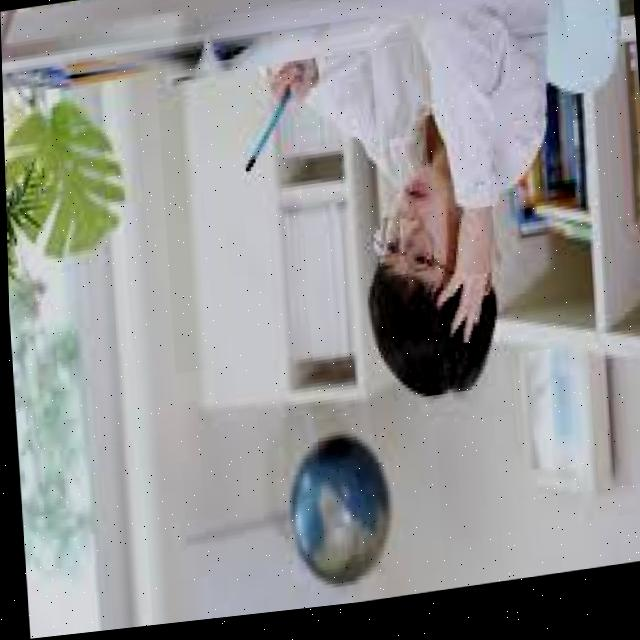studying-person: (100, 0, 582, 462)
